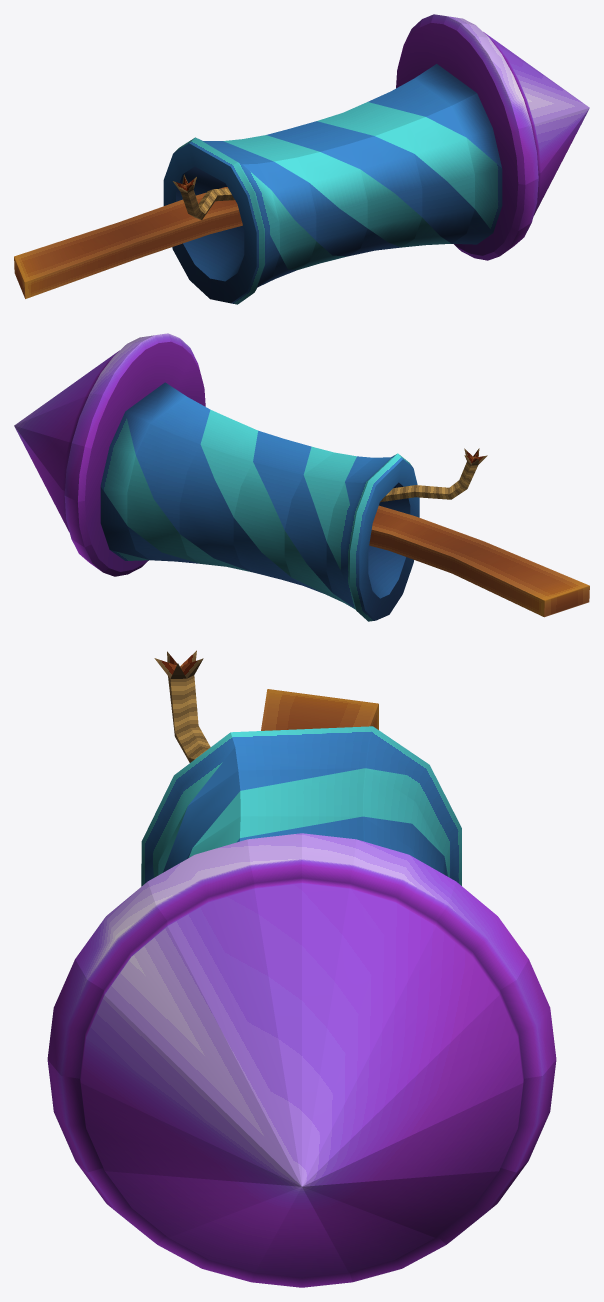
The model's file is rioBoard03.glb.
3 views of the same model, one above another, from view 1: azimuth 30°, elevation 25°; view 2: azimuth 150°, elevation 25°; view 3: azimuth 270°, elevation 25° (orthographic). The views are drawn at different scales.
Parts seen in each view (by area): view 1: rioBoard03; view 2: rioBoard03; view 3: rioBoard03.
Boxes of the visible parts, x1,y1,x2,y2 form: rioBoard03: (14,14,589,304); rioBoard03: (14,333,589,621); rioBoard03: (47,650,556,1287).
Size of the model in its own units: 12.17 by 4.62 by 4.73.
Materials: 1 (1 with a texture image).
